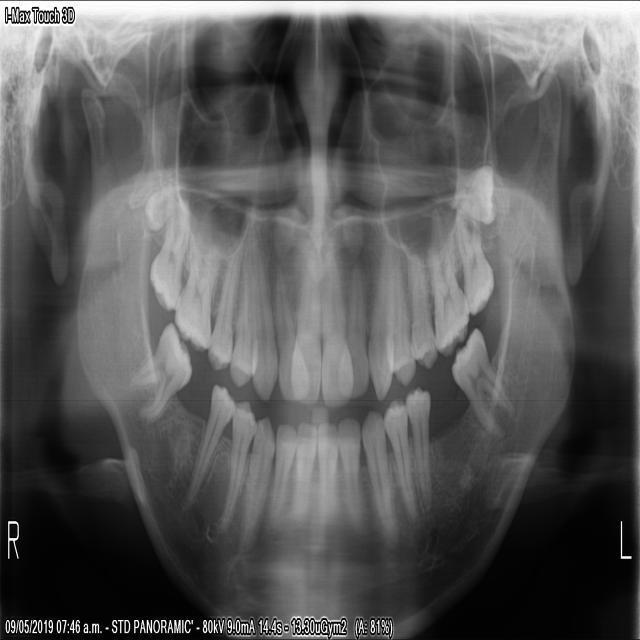LCD: (357, 402, 399, 543)
LCU: (364, 233, 395, 404)
LID: (335, 413, 364, 532), (313, 414, 338, 525)
LIU: (317, 238, 353, 411), (336, 255, 370, 404)
LMD: (448, 320, 515, 443)
LMU: (425, 236, 469, 359), (452, 205, 494, 319), (449, 155, 497, 228)
LPMD: (380, 390, 417, 525), (403, 380, 434, 516)
LPMU: (384, 240, 415, 390), (405, 243, 436, 371)
RCD: (236, 405, 274, 555)
RCU: (246, 216, 278, 405)
RID: (267, 411, 298, 530), (290, 414, 318, 525)
RIU: (270, 261, 310, 404), (286, 244, 320, 412)
RMD: (122, 315, 192, 427)
RMU: (171, 231, 222, 356), (147, 203, 191, 317), (141, 176, 175, 236)
RPMD: (178, 375, 236, 513), (214, 393, 258, 535)
RPMU: (204, 235, 243, 377), (225, 237, 258, 391)
